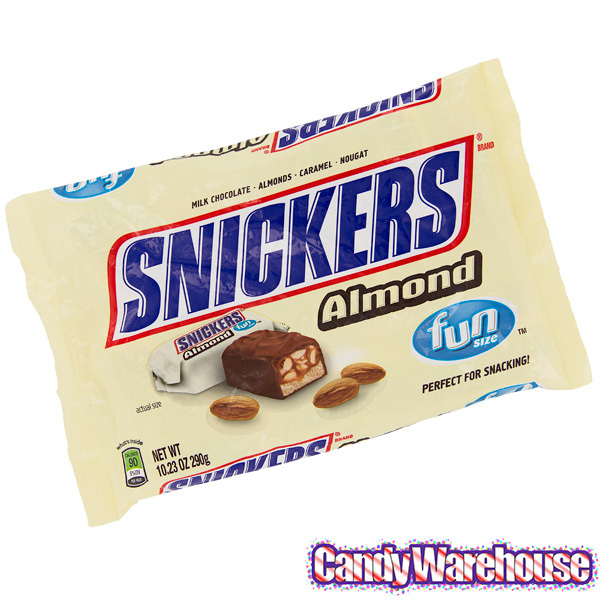snickers: (118, 150, 462, 330), (276, 78, 435, 145), (167, 437, 327, 490)
